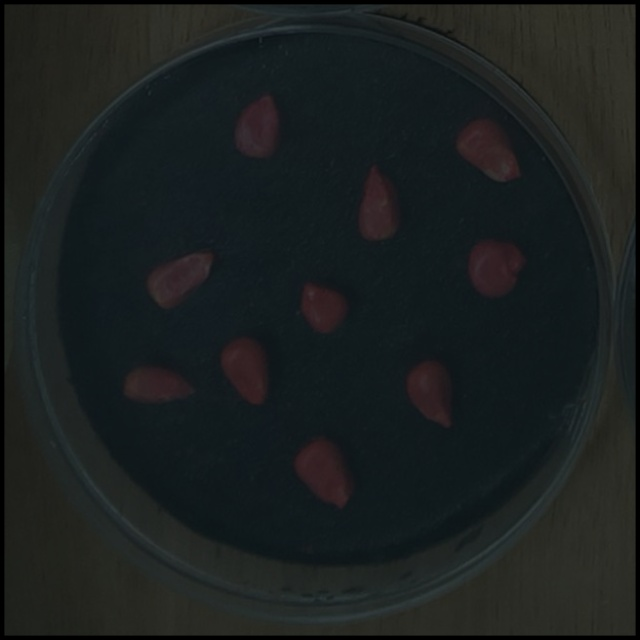Zea mays: (139, 243, 220, 320), (287, 433, 361, 517), (449, 112, 528, 190), (461, 232, 534, 309), (398, 353, 461, 438), (213, 329, 276, 411), (352, 157, 407, 249), (227, 87, 288, 165), (292, 276, 357, 344), (117, 360, 203, 411)
